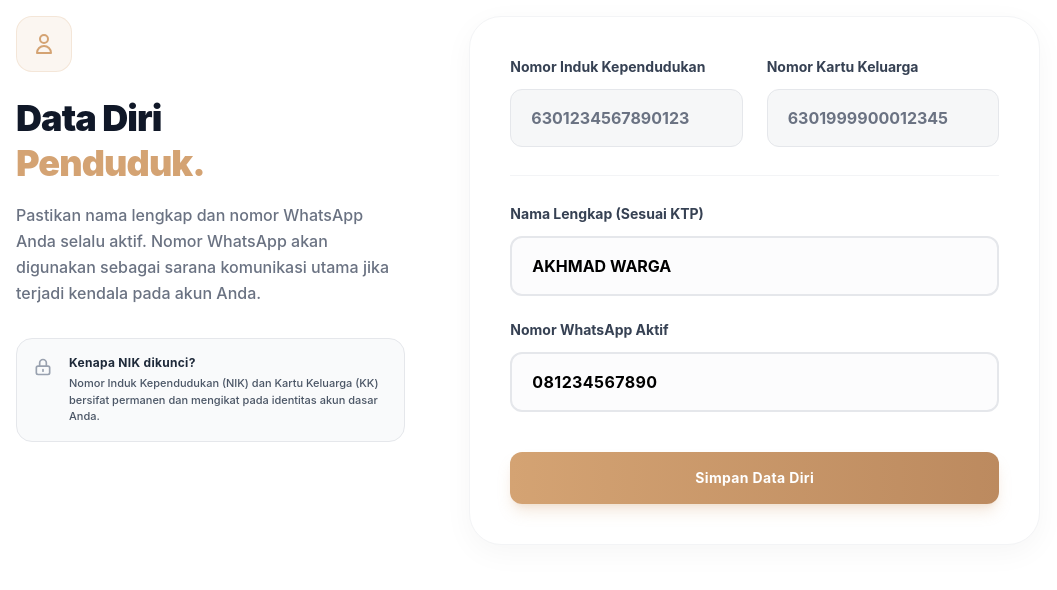
Test: Profile.vue - Professional QA Test Suite › Validasi Form › [VAL-04] Error jika WhatsApp kurang dari 10 digit
Replace the text in the field below "Nomor WhatsApp Aktif" with "08123" at (755, 382), box [510,352,999,412]
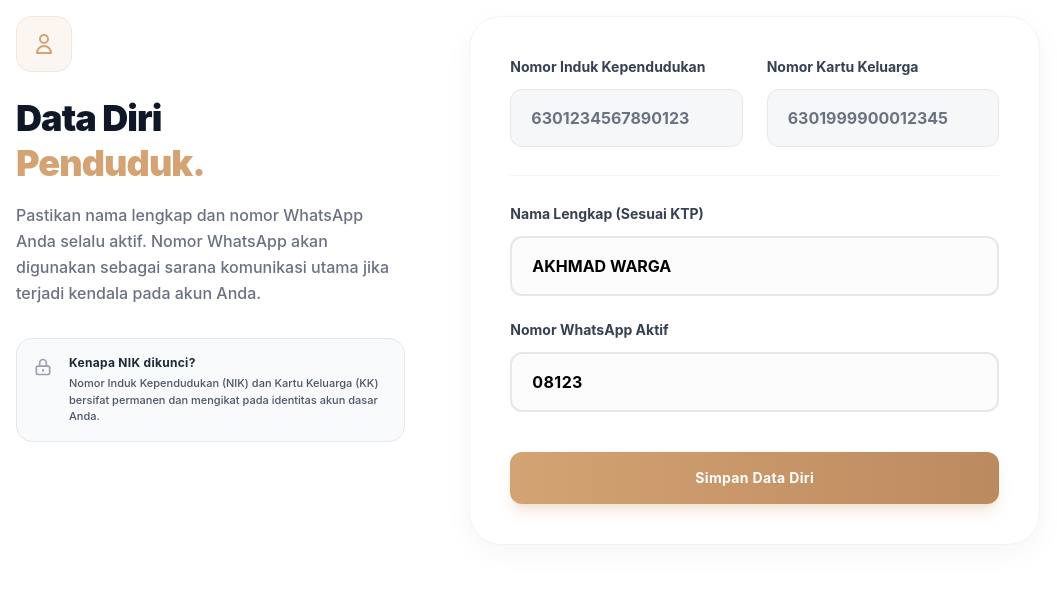
Submit the form, box [510,57,999,504]
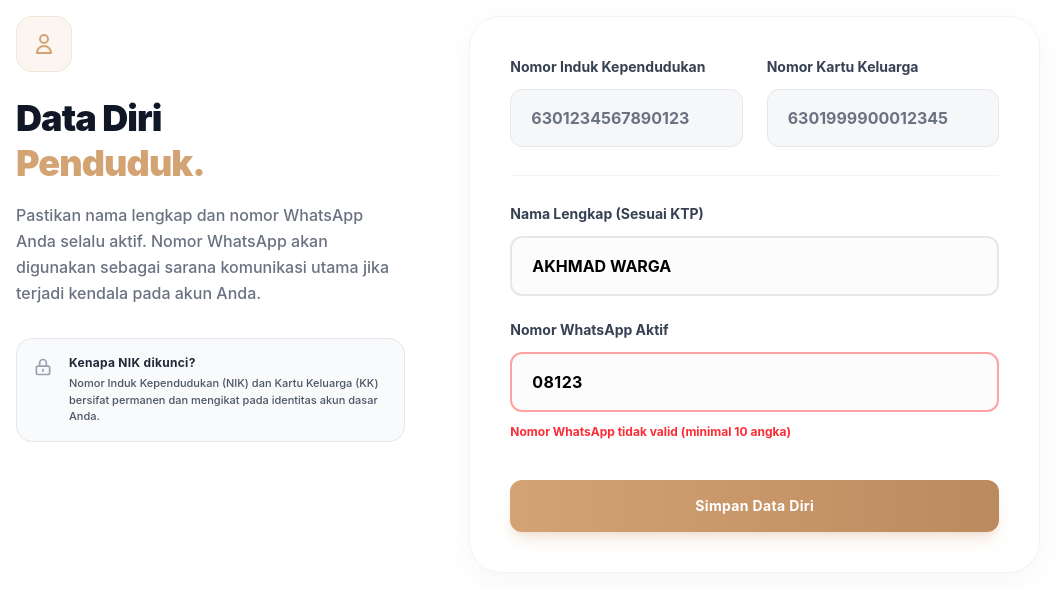
Now the text "Nomor WhatsApp tidak valid" is shown, box [510,424,791,439]
